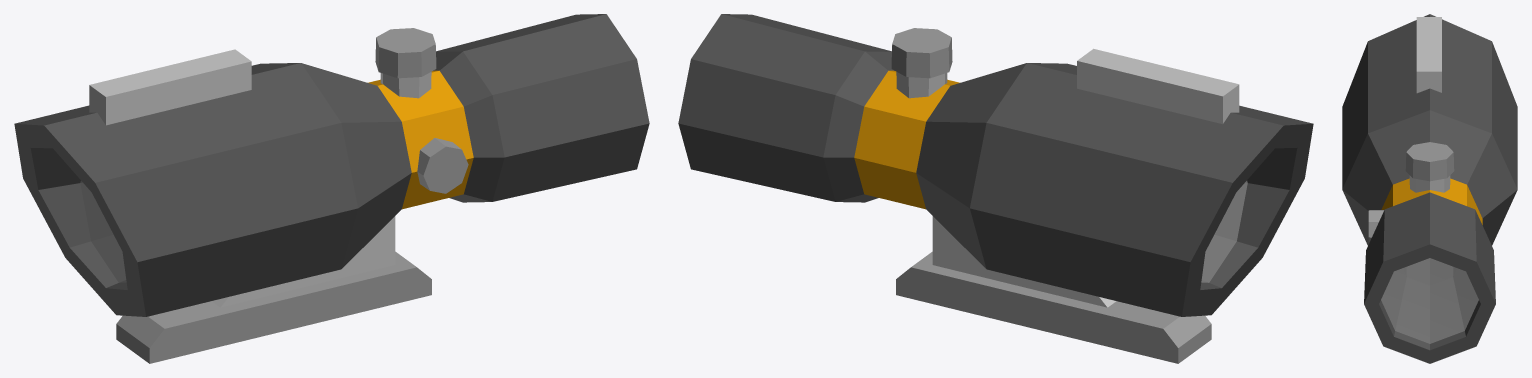
File: SM_ACOG.fbx
The picture shows the model from 3 angles, left to right: view 1: azimuth 30°, elevation 25°; view 2: azimuth 150°, elevation 25°; view 3: azimuth 270°, elevation 25°; orthographic projection. The views are drawn at different scales.
Parts seen in each view (by area): view 1: SM_ACOG; view 2: SM_ACOG; view 3: SM_ACOG.
Boxes of the visible parts, box(x1,y1,x2,y2) form: SM_ACOG: box(14, 14, 649, 363); SM_ACOG: box(678, 14, 1313, 363); SM_ACOG: box(1342, 14, 1517, 363).
Bounding box in the file's own units: 17.27 × 7.92 × 6.08.
